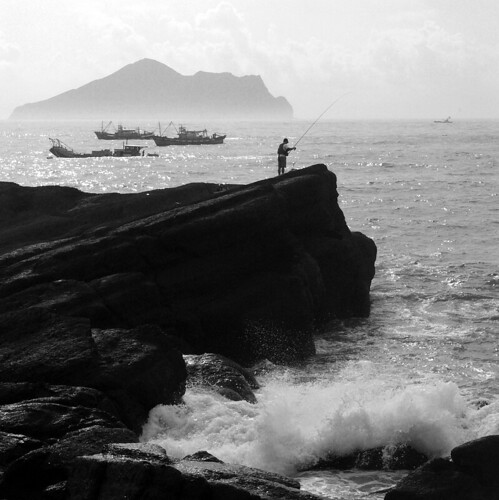turtleIsland: (3, 58, 294, 119)
